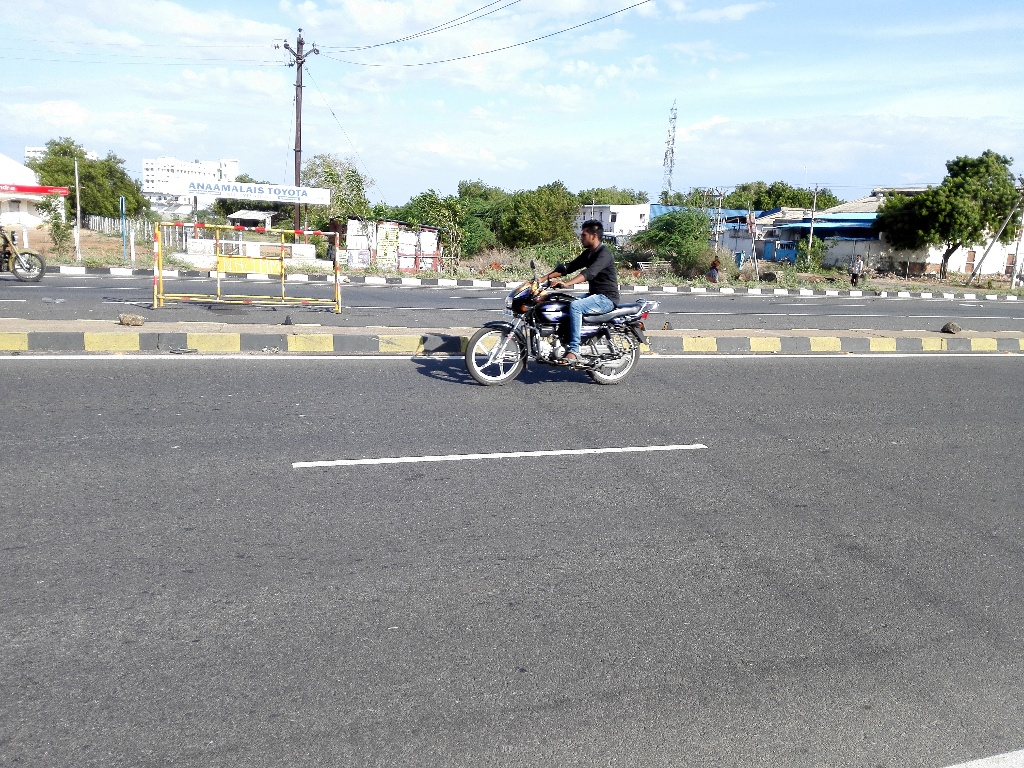biker: (446, 191, 671, 395)
nohelmet: (573, 208, 616, 262)
